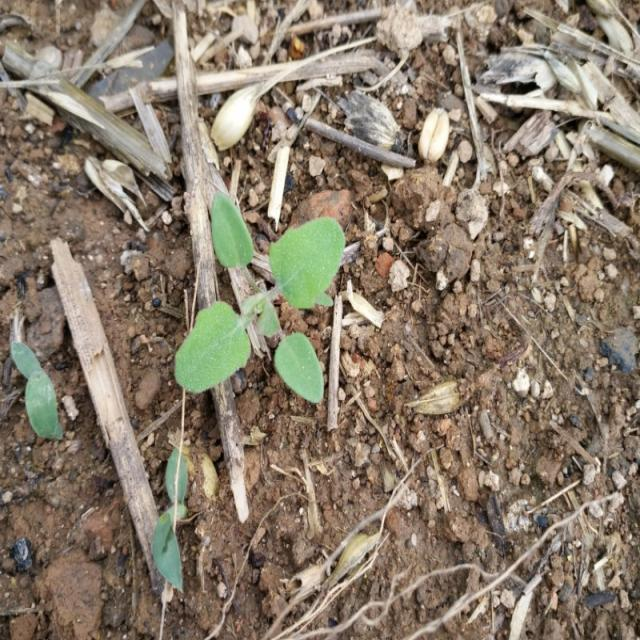ca: (175, 191, 347, 403)
